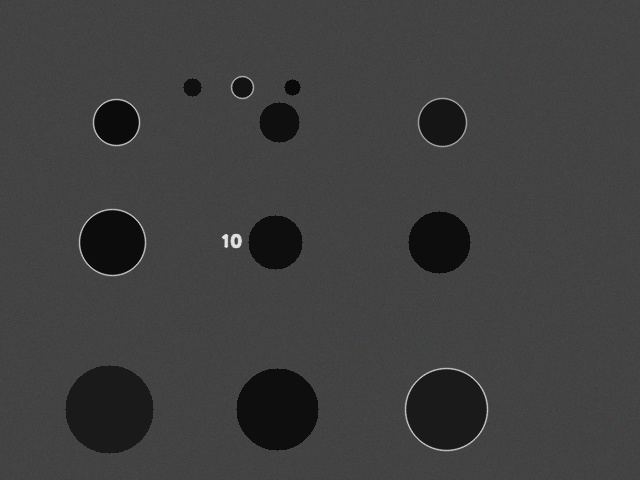hole: (65, 365, 153, 453), (236, 368, 318, 450), (405, 368, 487, 450), (79, 209, 145, 275), (408, 211, 470, 273), (248, 215, 302, 269), (418, 98, 466, 146), (93, 99, 139, 145), (259, 102, 299, 142), (231, 76, 253, 98), (183, 78, 201, 96), (284, 79, 300, 95)
